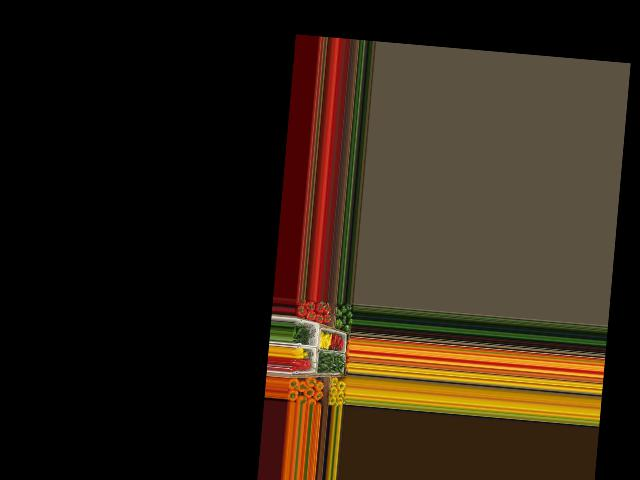bell_pepper: (334, 308, 345, 318)
